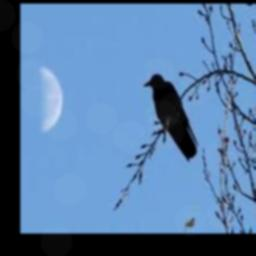Crow: (143, 73, 198, 163)
